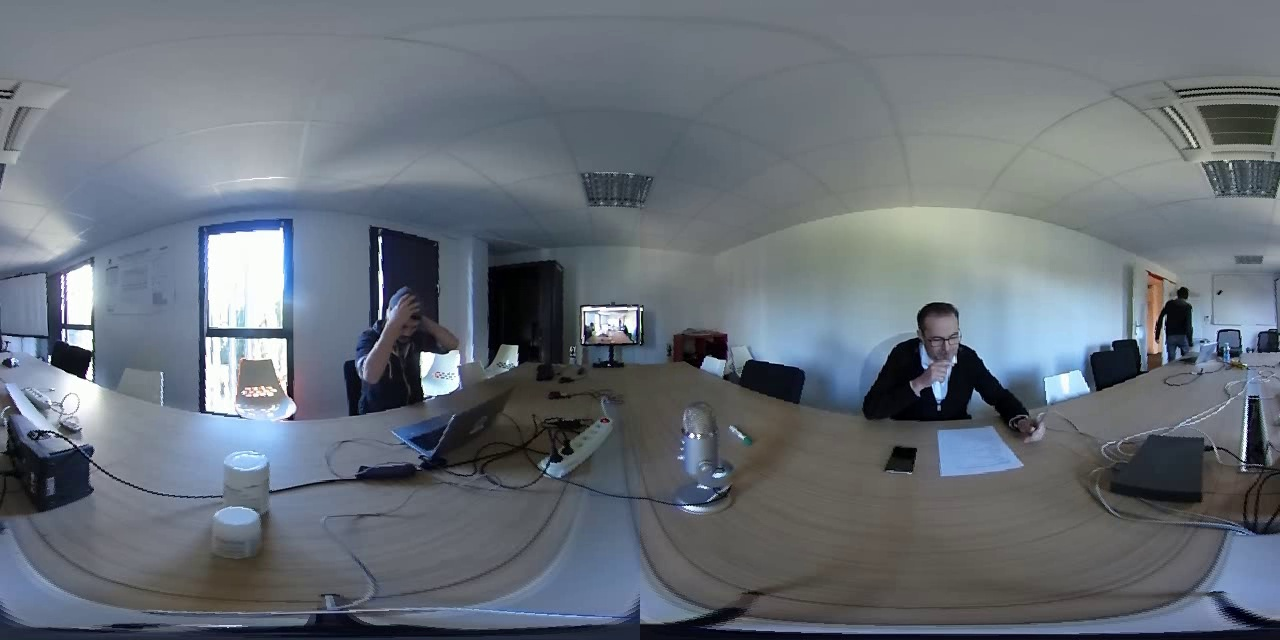person: (879, 286, 1007, 435), (350, 273, 453, 409), (1150, 279, 1214, 355)
